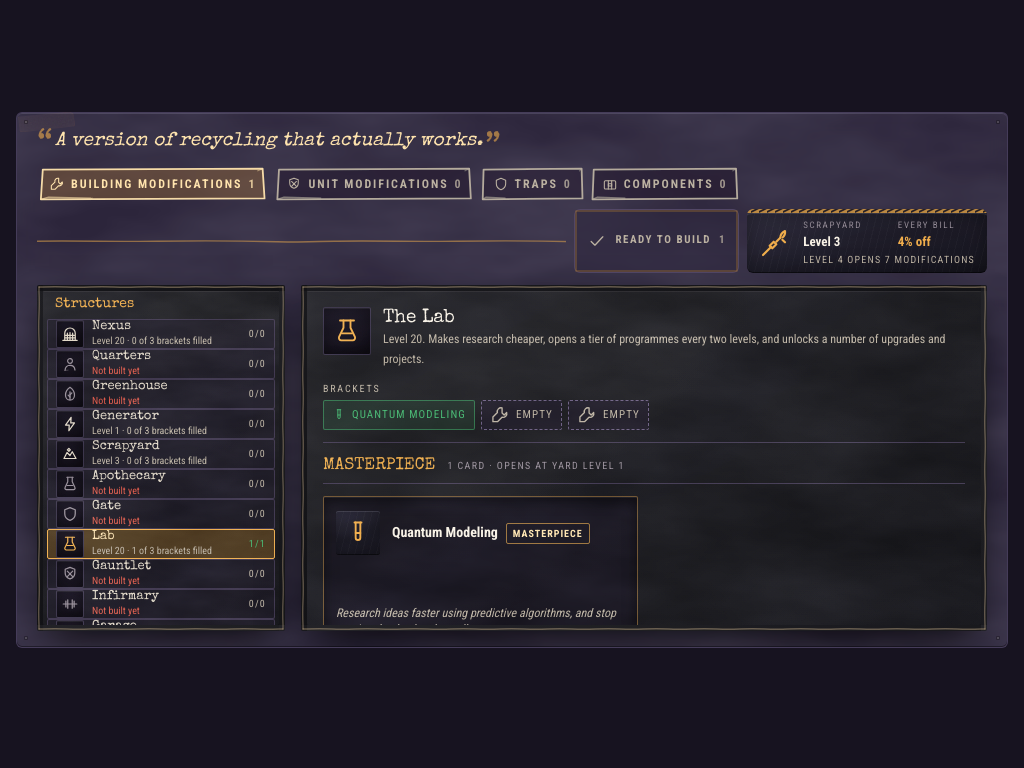
Test: the line under a bench is an empty state › reads the rule off the structure whose bench is open, not off the whole kind
Click the button with test id "scrapyard-bench-the-generator".
click(161, 424)  # box [47,409,275,439]
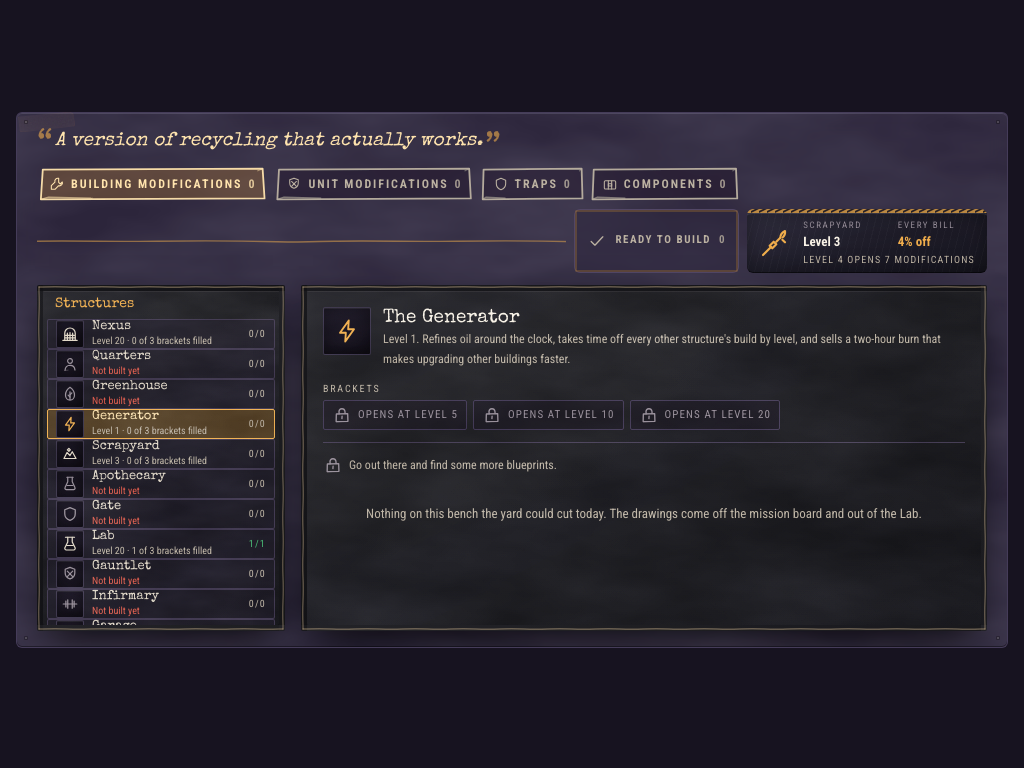
Now the element with test id "scrapyard-hidden-generator" shows "find some more blueprints", box [349,458,557,472]
